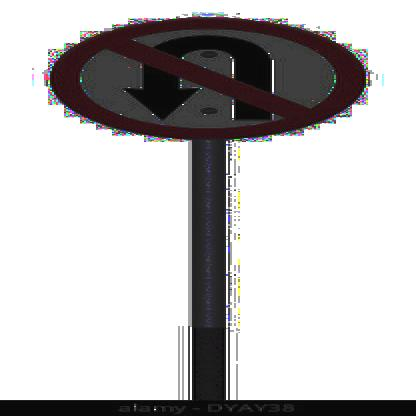No U-turn: (49, 17, 373, 141)
